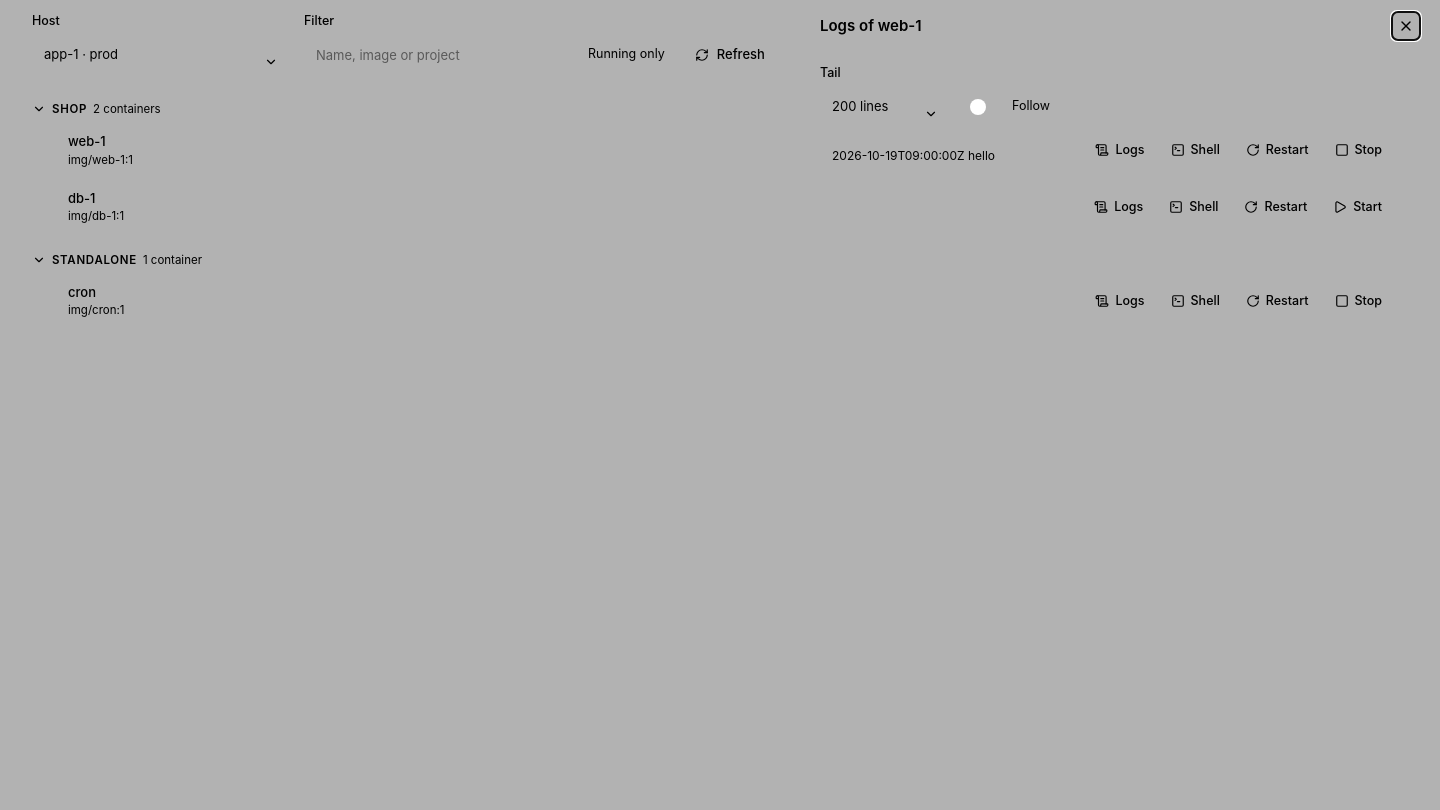
Test case: containers tab › logs drawer follows and unfollows on close
Earlier steps of the test are not shown.
Later steps or results of the test are not shown.
Expected: the element showing "2026-10-19T09:00:00Z hello" is shown, [832,148,995,163]
Expected: the text "2026-10-19T09:00:00Z" is shown, [832,148,965,163]
Select "1000 lines" in the dropdown labelled "Tail" at (884, 107), box [820,89,948,125]
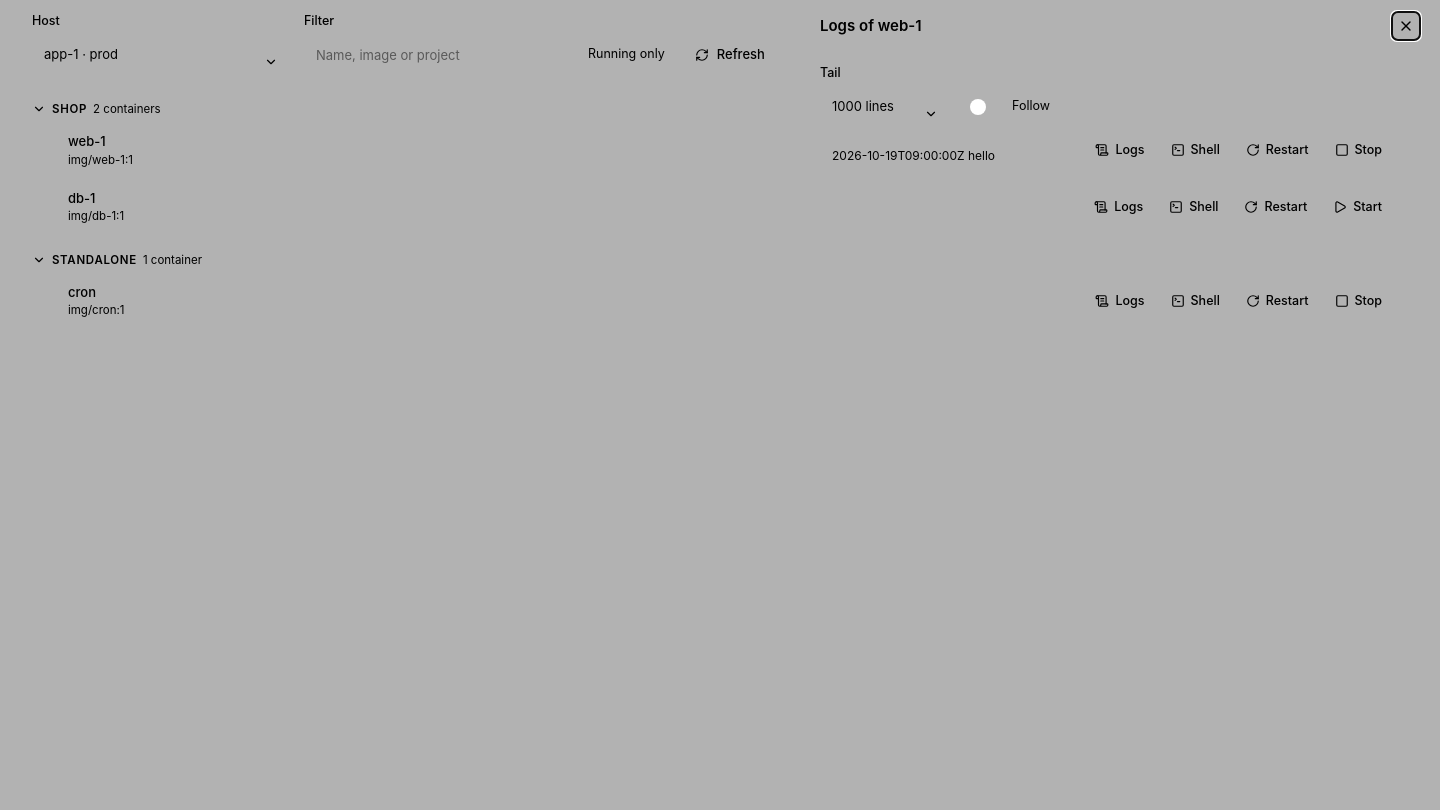
Click the switch named "Follow".
click(986, 107)  # box [968,97,1004,117]
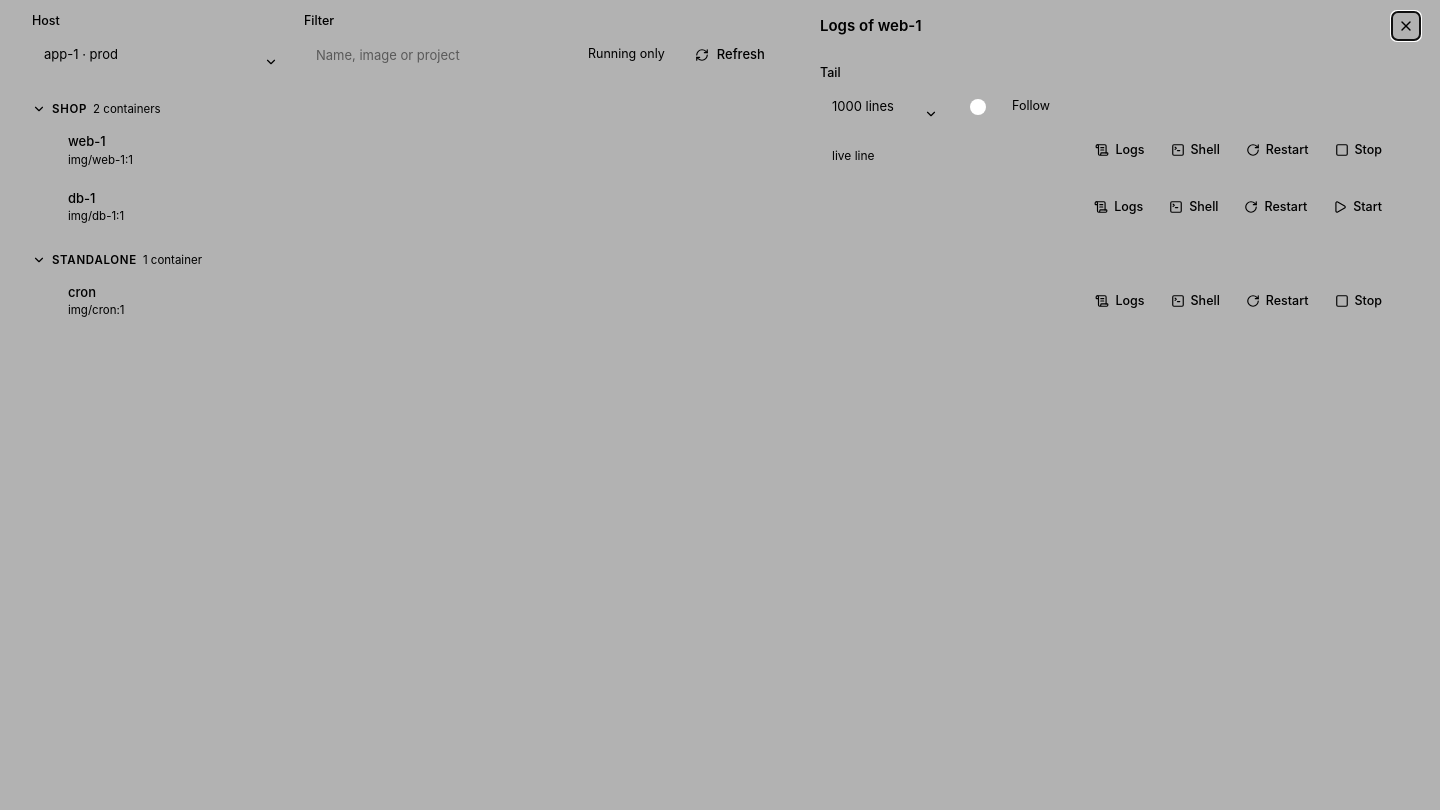
Result: the element showing "live line" is shown at [832,148,875,163]
